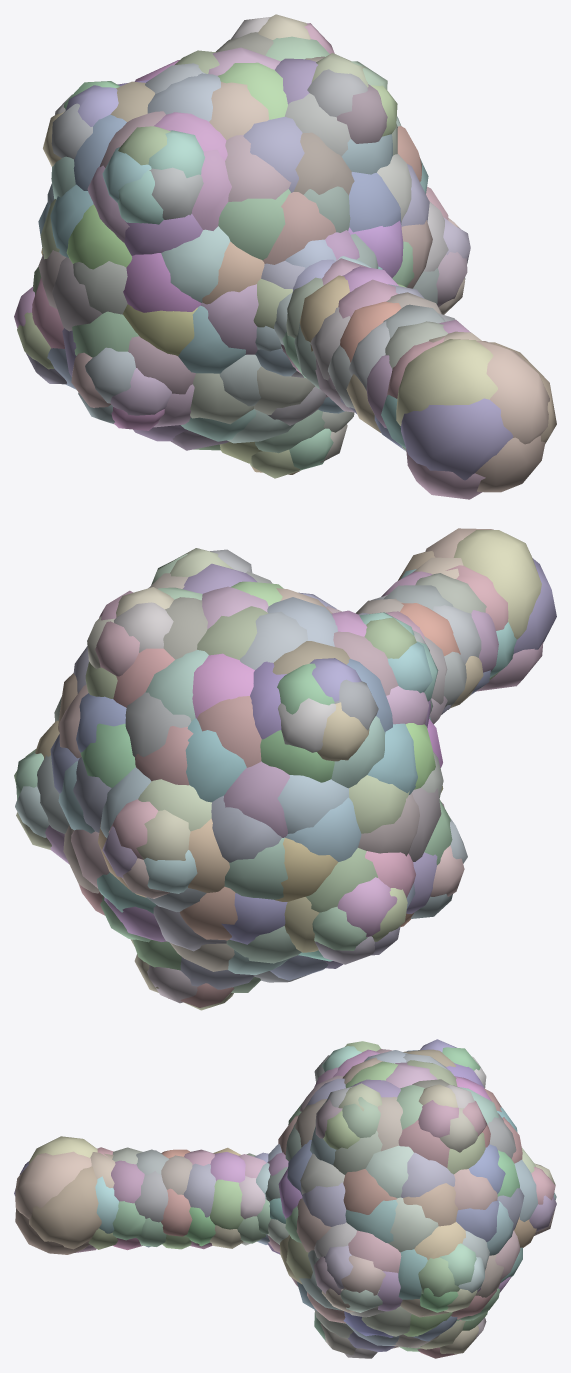
The model's file is virion_of_native_gene_transfer_agent_gta_particle_120_cleaned_draco.glb.
The picture shows the model from 3 angles, top to bottom: view 1: azimuth 30°, elevation 25°; view 2: azimuth 150°, elevation 25°; view 3: azimuth 270°, elevation 25°; orthographic projection. The views are drawn at different scales.
Parts seen in each view (by area): view 1: 6tba.cif_1A Gaussian surface; view 2: 6tba.cif_1A Gaussian surface; view 3: 6tba.cif_1A Gaussian surface.
Boxes of the visible parts, x1,y1,x2,y2 form: 6tba.cif_1A Gaussian surface: (14, 14, 556, 499); 6tba.cif_1A Gaussian surface: (14, 528, 556, 1010); 6tba.cif_1A Gaussian surface: (14, 1039, 556, 1358).
Size of the model in its own units: 491 by 490 by 837.
